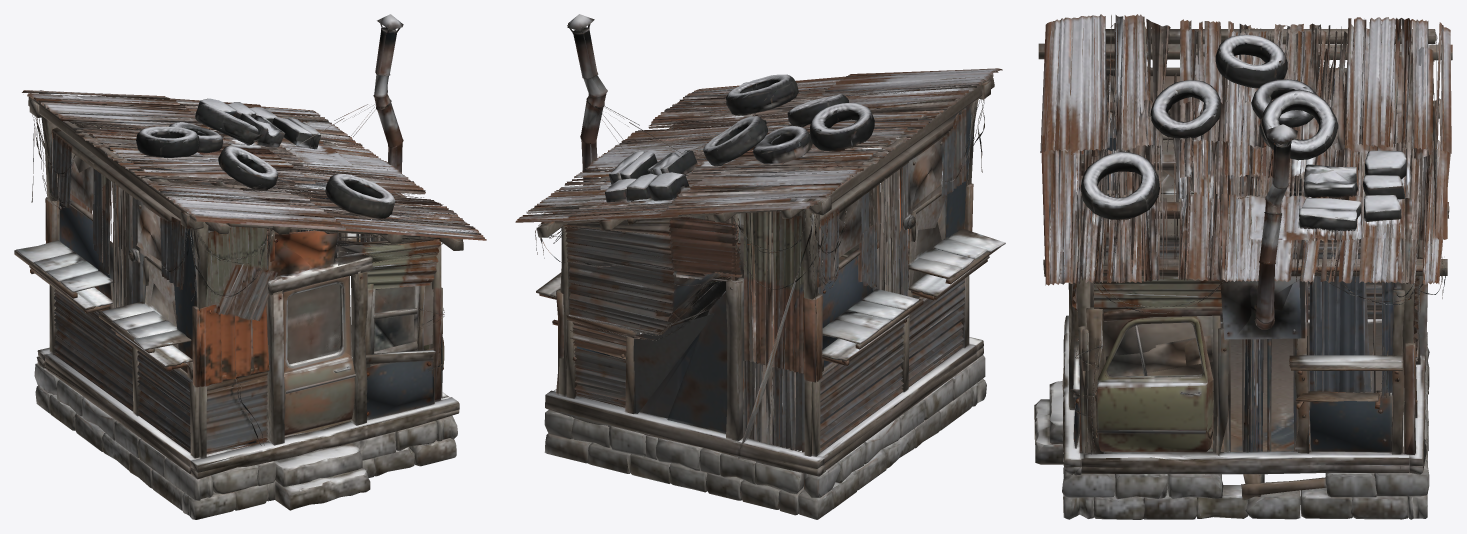
Rendered from jt_scrap_house_a.glb.
The picture shows the model from 3 angles, left to right: view 1: azimuth 30°, elevation 25°; view 2: azimuth 150°, elevation 25°; view 3: azimuth 270°, elevation 25°; orthographic projection. The views are drawn at different scales.
Size of the model in its own units: 0.9185 by 0.9487 by 0.8711.
1 material, 1 textured.
